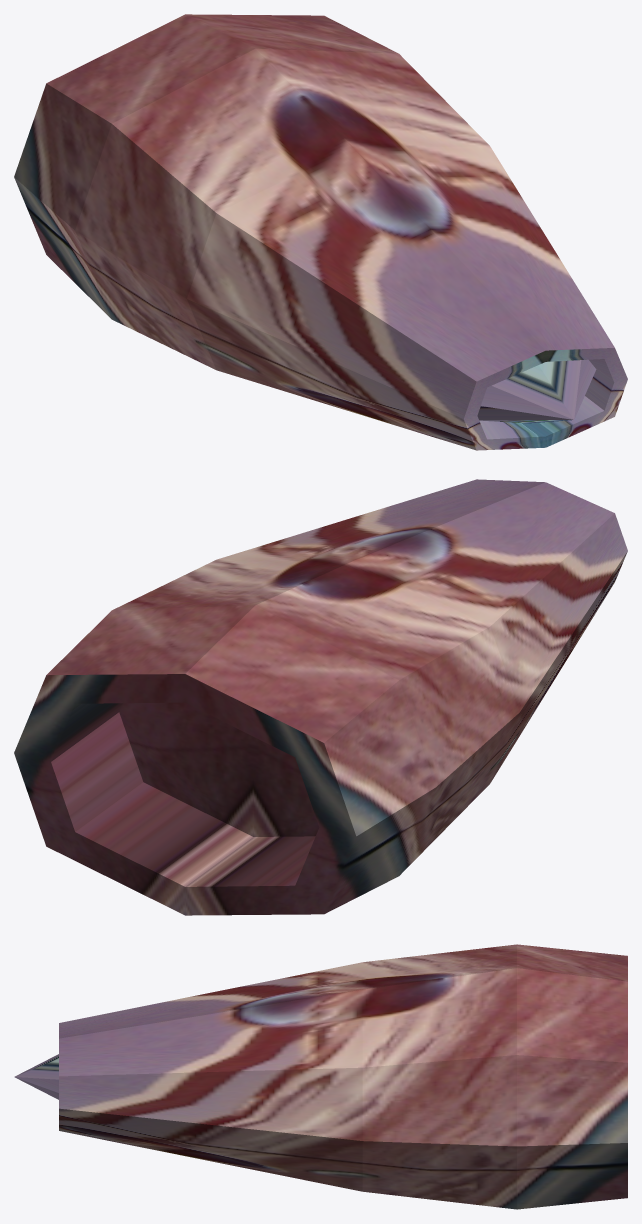
3 renders of one model, top to bottom at view 1: azimuth 30°, elevation 25°; view 2: azimuth 150°, elevation 25°; view 3: azimuth 270°, elevation 25°, orthographic. The views are drawn at different scales.
Parts seen in each view (by area): view 1: Engine-2_Cube.005; view 2: Engine-2_Cube.005; view 3: Engine-2_Cube.005.
Boxes of the visible parts, x1,y1,x2,y2 form: Engine-2_Cube.005: (14,14,627,450); Engine-2_Cube.005: (14,479,627,915); Engine-2_Cube.005: (14,944,627,1209).
Size of the model in its own units: 6.13 by 4.48 by 11.45.
